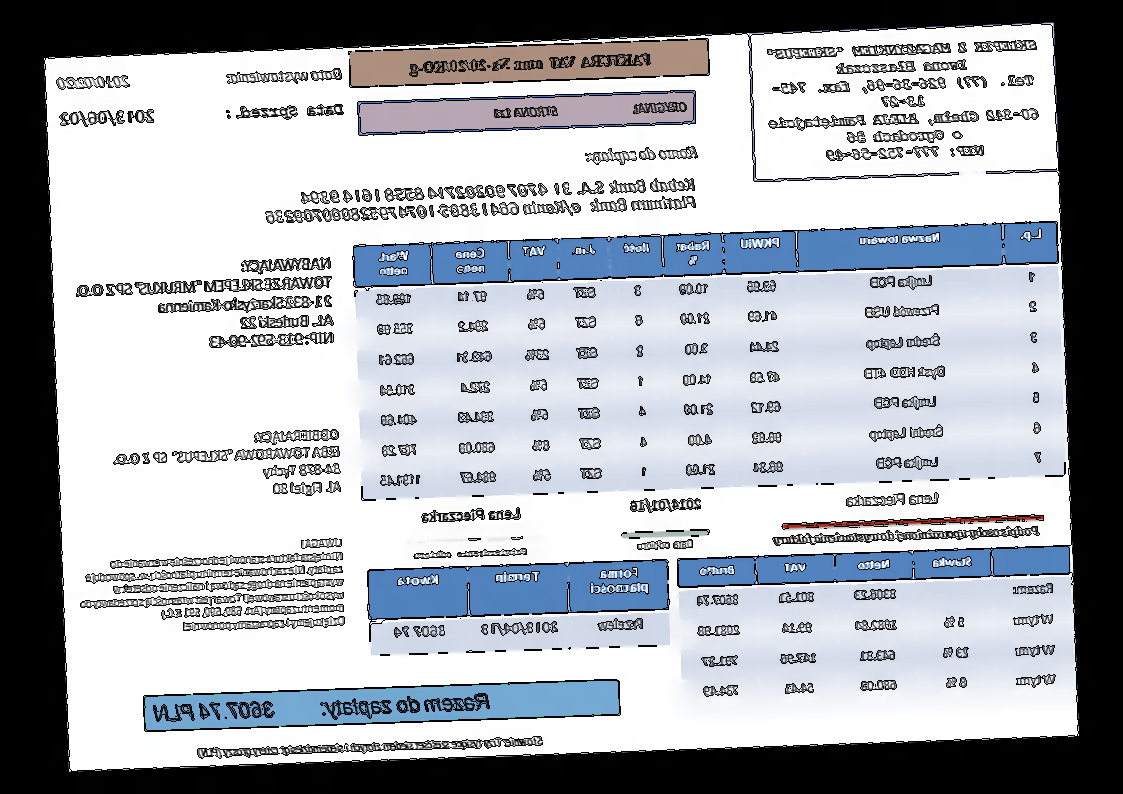Table: (351, 219, 1068, 501), (677, 544, 1077, 712), (365, 559, 672, 657)
TextBox: (763, 34, 1043, 166), (78, 535, 349, 639), (72, 255, 337, 357), (262, 174, 698, 226), (111, 425, 344, 504), (150, 690, 496, 726), (198, 732, 545, 761), (407, 49, 654, 79), (770, 523, 1042, 549), (491, 98, 690, 122), (583, 143, 701, 167), (224, 100, 344, 123), (225, 65, 344, 85), (421, 504, 524, 525), (413, 544, 529, 561), (59, 107, 157, 127), (844, 489, 941, 509), (628, 496, 704, 514), (56, 73, 131, 90), (635, 536, 695, 553)
